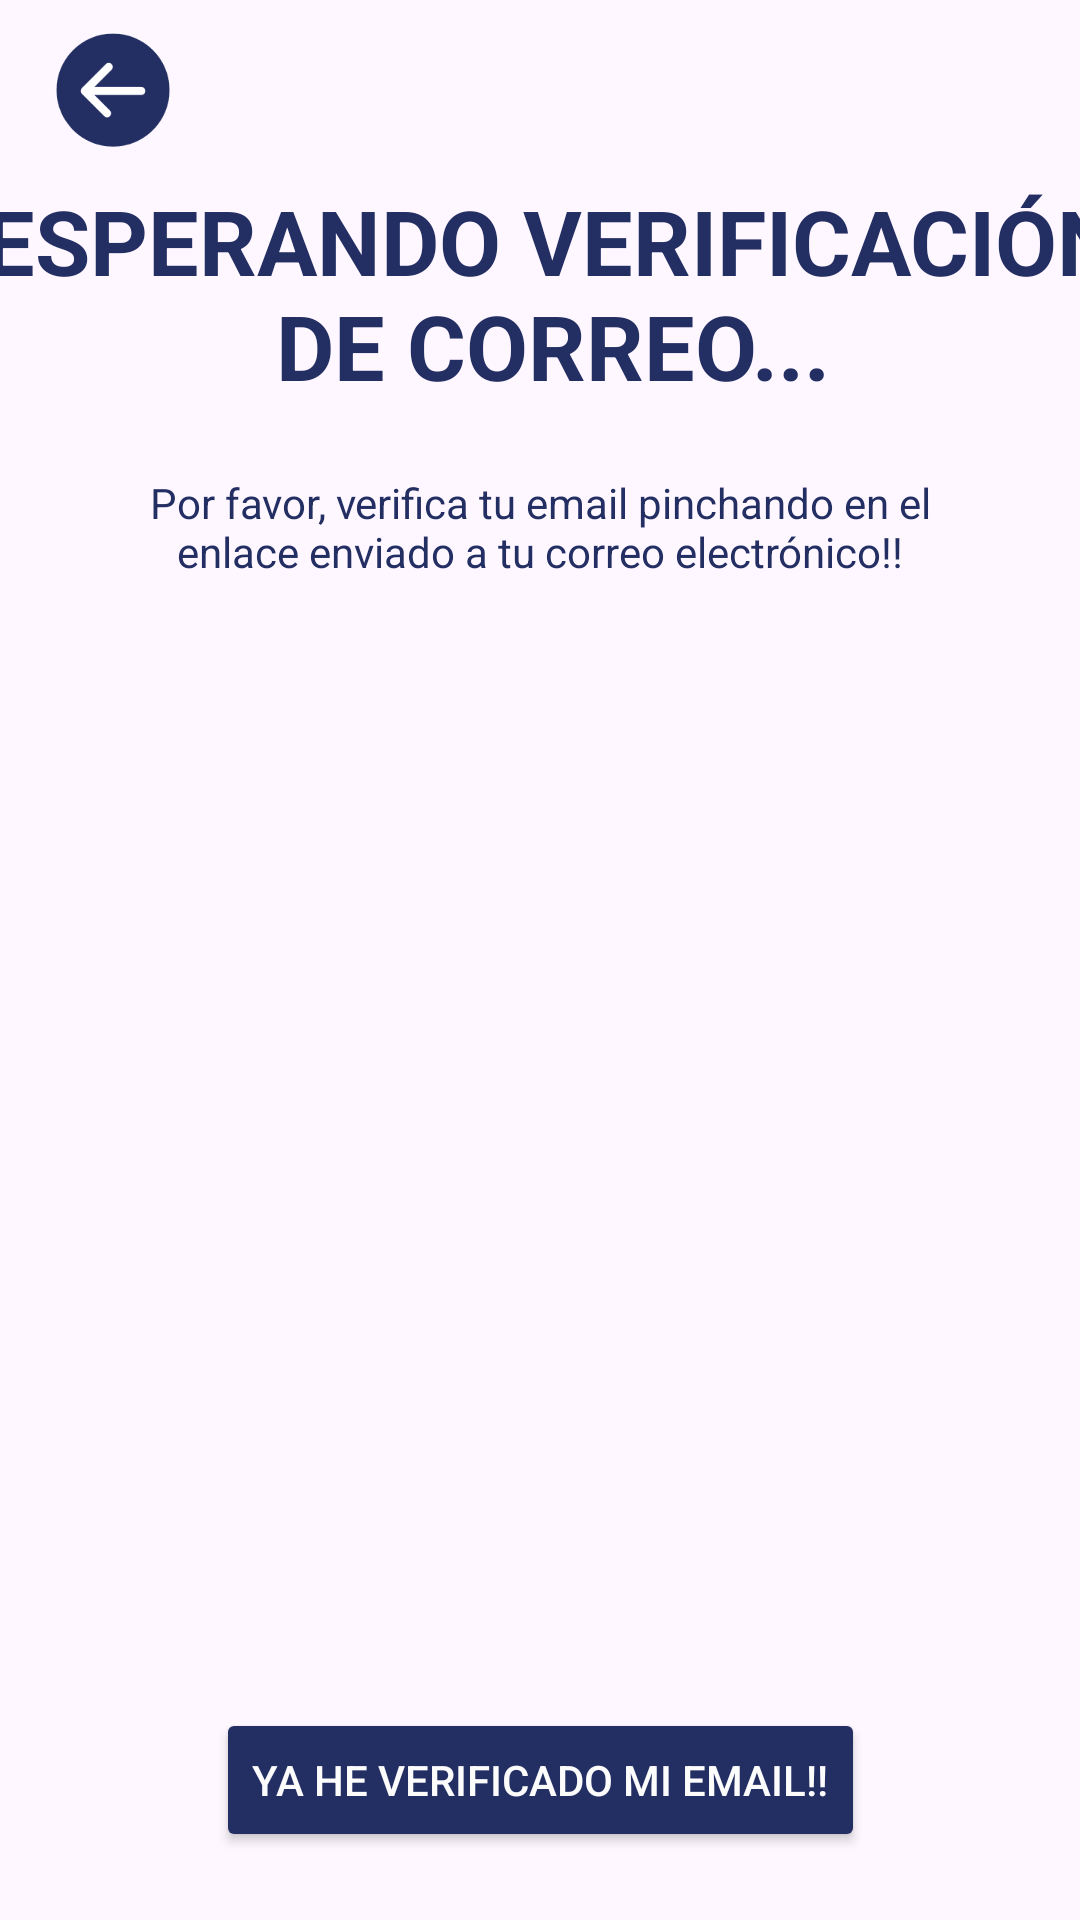

Named icons in this screenshot (1080*1920) and their bounding boxes, (x1, y1, x2, y2):
goback: (56, 33, 170, 147)
